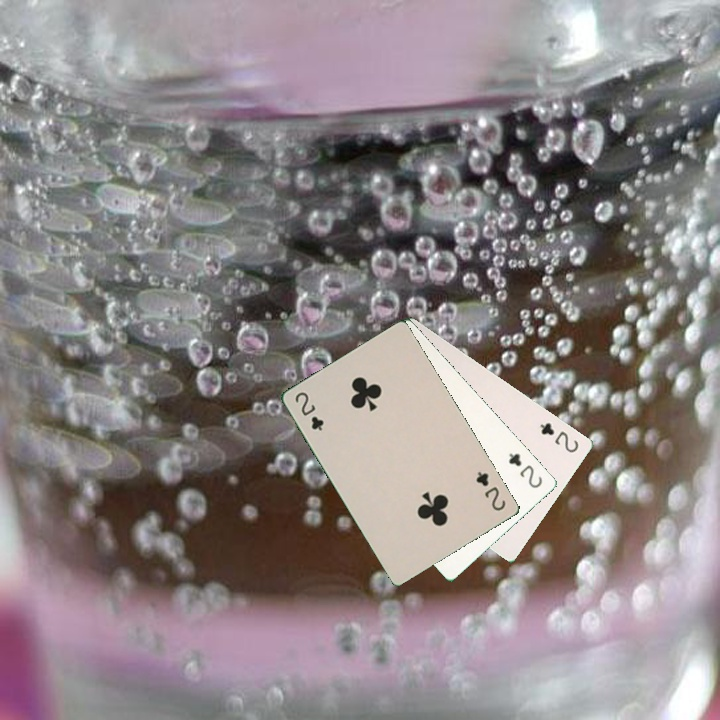2c: (504, 449, 545, 491), (472, 467, 508, 514), (536, 418, 581, 455), (291, 388, 326, 433)
